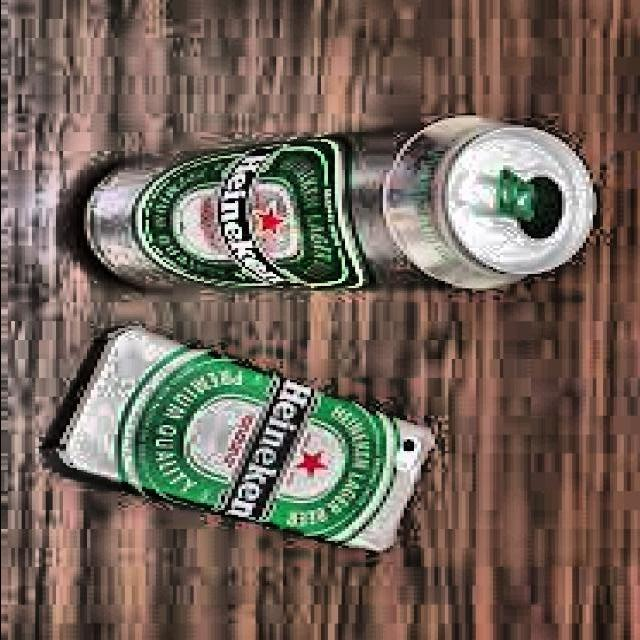litter: (53, 109, 600, 306)
